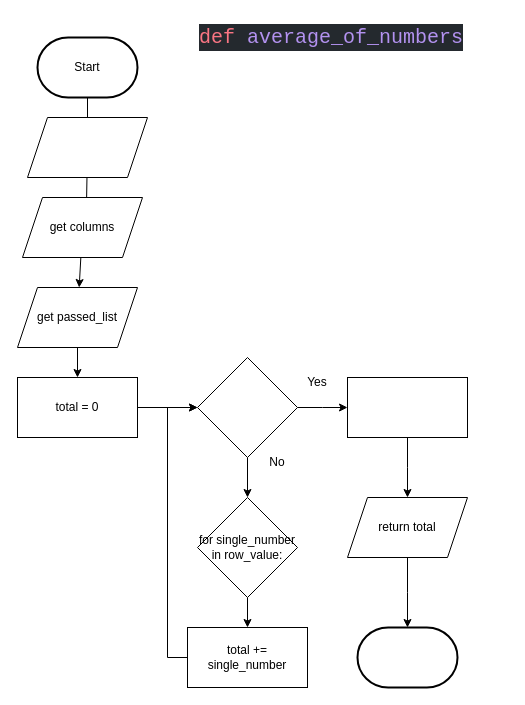
Image size: 525x705. Some labels were removed from this diagram. The centre of each missing label's shape, as x and y in pixels:
for row_value in passed_list:: point (247, 407)
get rows: point (87, 147)
Stop: point (407, 657)
total = total / (row * columns): point (407, 407)
